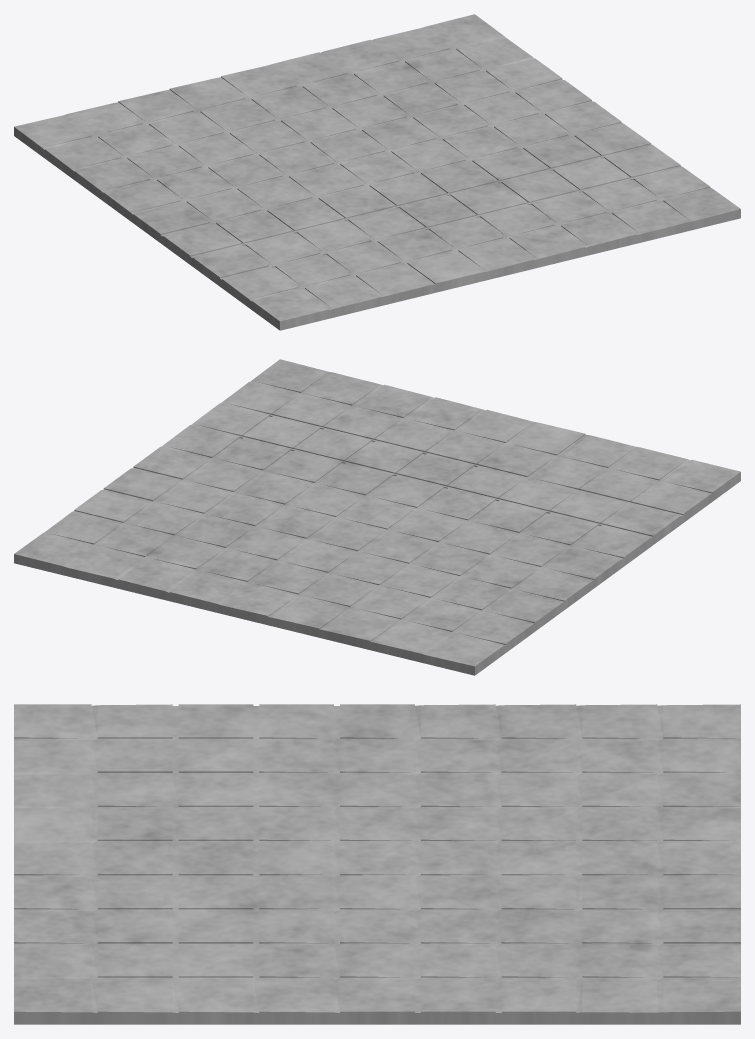
The model's file is Model_Chodnik1.fbx.
3 renders of one model, top to bottom at view 1: azimuth 30°, elevation 25°; view 2: azimuth 150°, elevation 25°; view 3: azimuth 270°, elevation 25°, orthographic. The views are drawn at different scales.
Visible parts, largest first — view 1: Grid; view 2: Grid; view 3: Grid.
Part boxes in pixels (x1,y1,x2,y2): Grid: [14, 14, 740, 330]; Grid: [14, 359, 740, 675]; Grid: [14, 704, 740, 1024].
Size of the model in its own units: 1158 by 22.46 by 1158.
